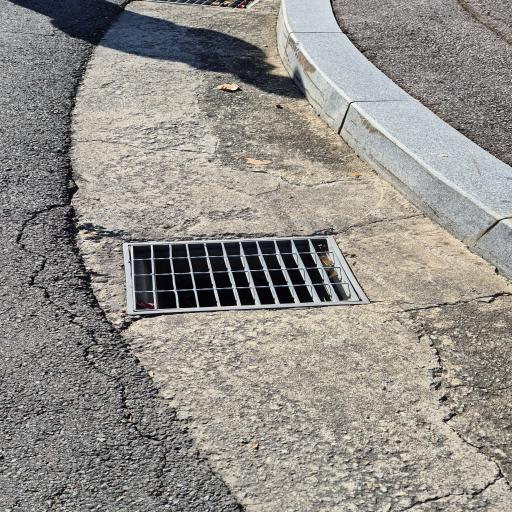drain: (126, 236, 367, 311)
